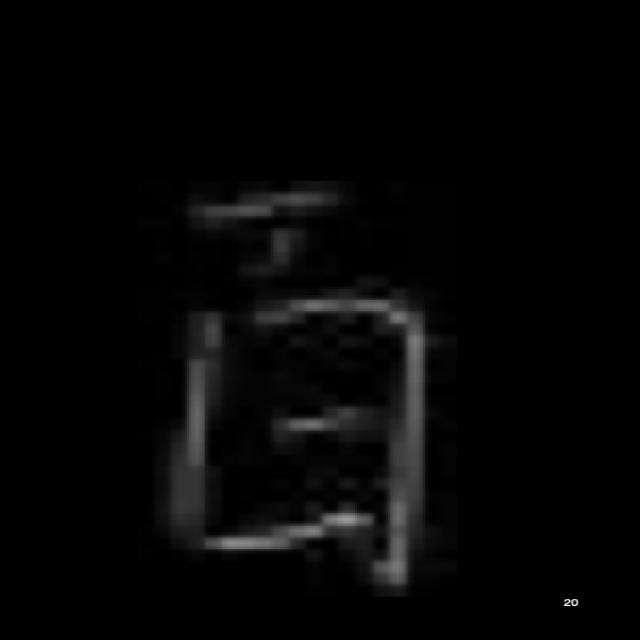100 -a hundred-: (148, 173, 431, 596)
